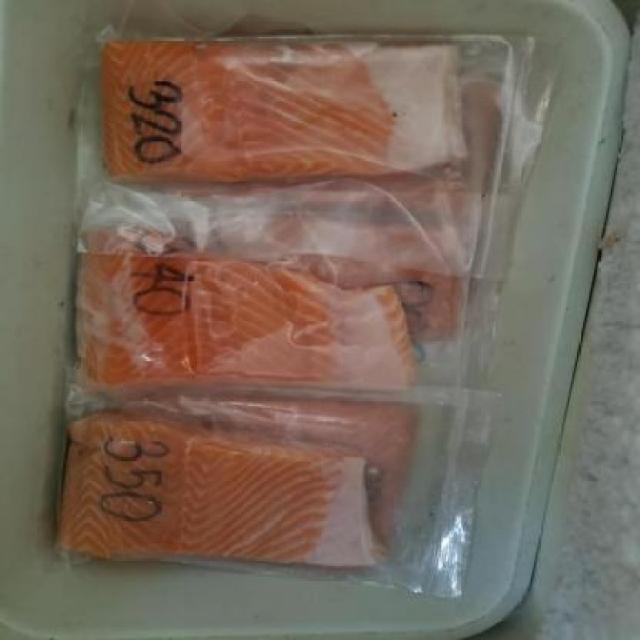salmon: (32, 223, 448, 422), (74, 20, 475, 205), (40, 395, 413, 587)
